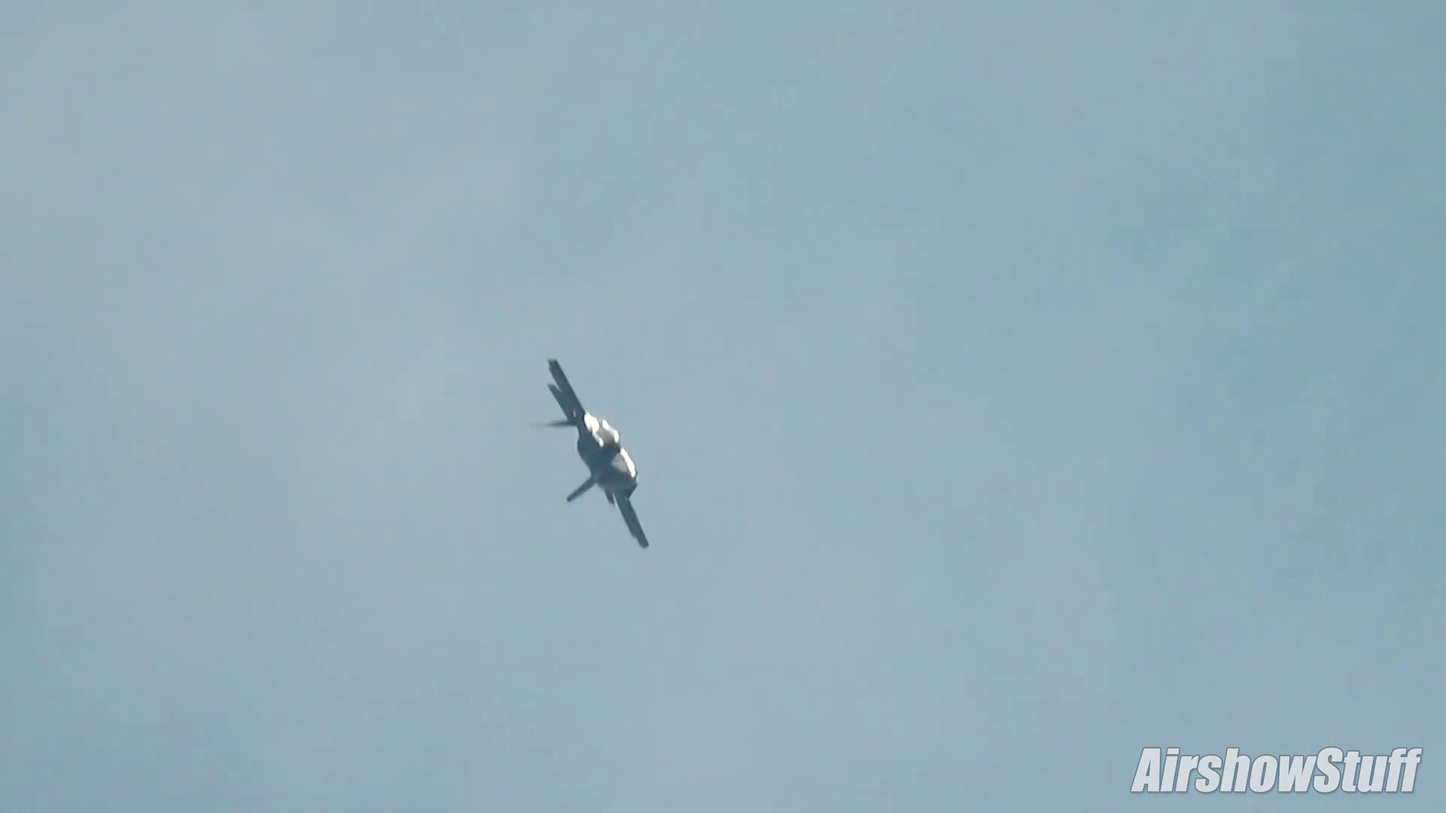F35: (533, 356, 658, 555)
